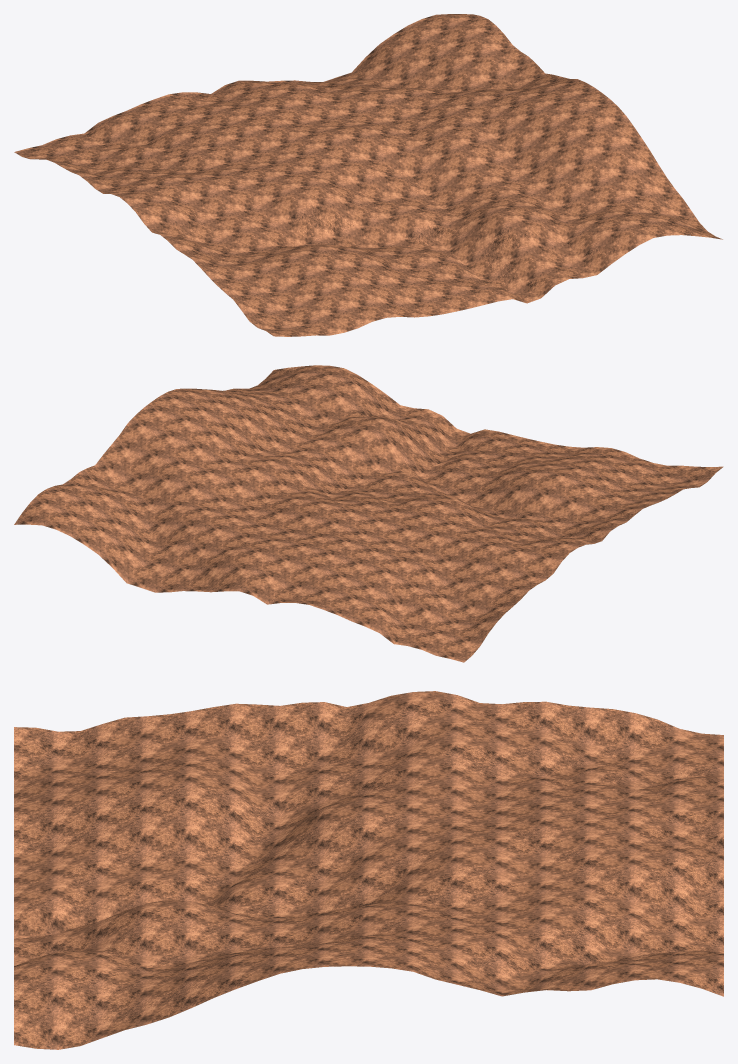
File: terrain_05_01.dae
3 views of the same model, one above another, from view 1: azimuth 30°, elevation 25°; view 2: azimuth 150°, elevation 25°; view 3: azimuth 270°, elevation 25° (orthographic). The views are drawn at different scales.
Parts seen in each view (by area): view 1: terrain_05_01-node; view 2: terrain_05_01-node; view 3: terrain_05_01-node.
Boxes of the visible parts, x1,y1,x2,y2 form: terrain_05_01-node: [14, 14, 722, 336]; terrain_05_01-node: [14, 365, 723, 662]; terrain_05_01-node: [14, 691, 723, 1049].
Bounding box in the file's own units: 128 × 128 × 20.17.
Materials: 1 (1 with a texture image).
